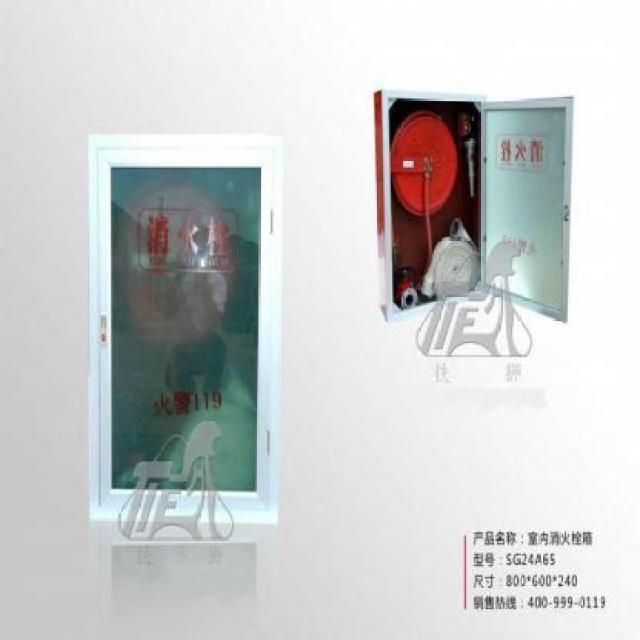firehydrant: (84, 125, 288, 547), (370, 80, 578, 331)
